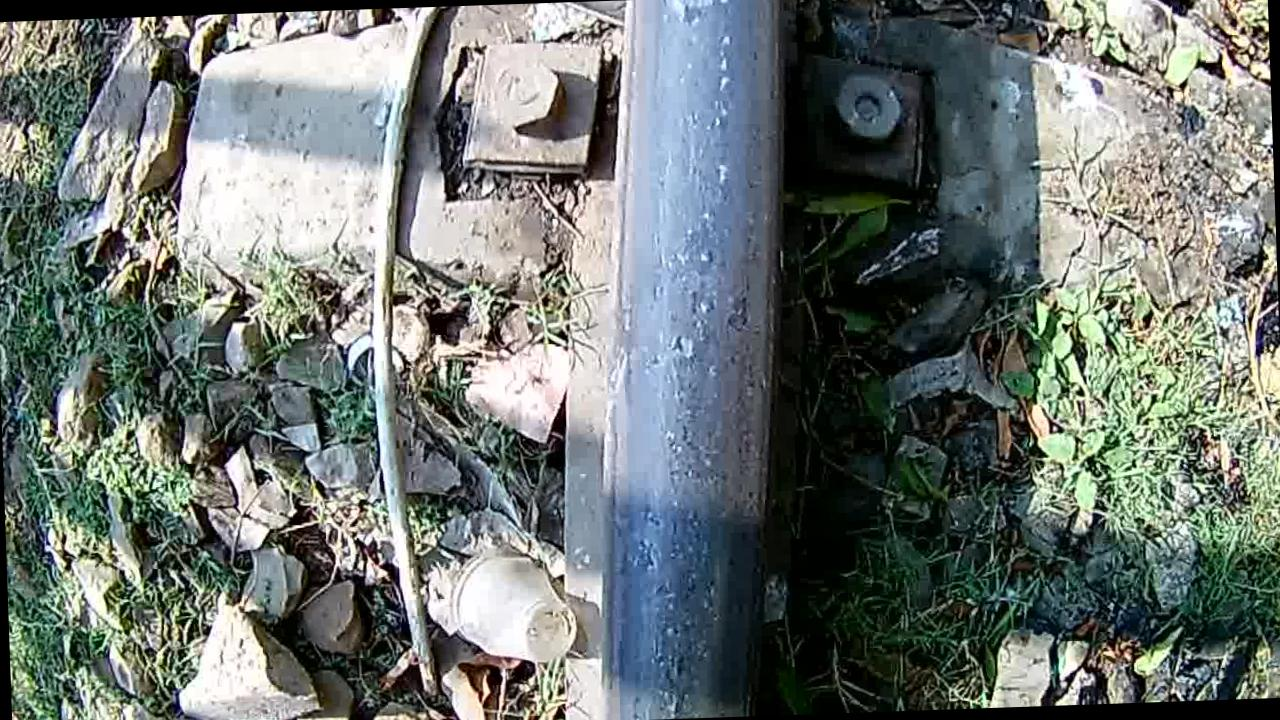clip_missing: (575, 0, 806, 720)
